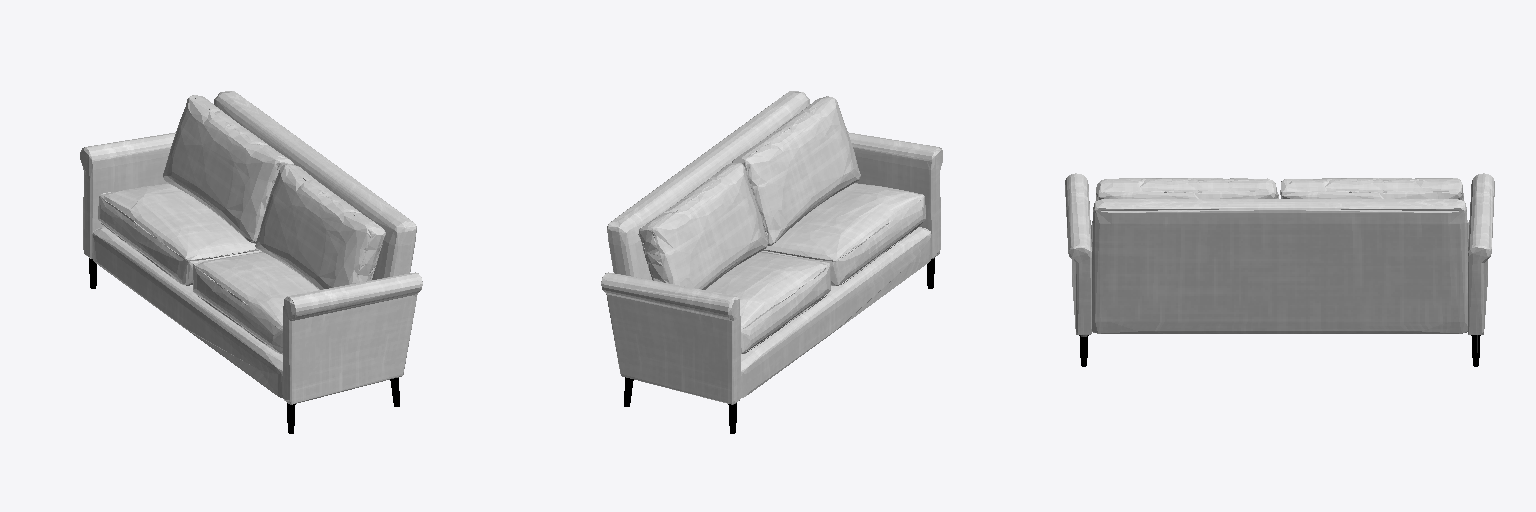
The picture shows the model from 3 angles: view 1: azimuth 30°, elevation 25°; view 2: azimuth 150°, elevation 25°; view 3: azimuth 270°, elevation 25°; orthographic projection.
Visible parts, largest first — view 1: pasted__pasted__unknown_trinity pasted__group1 group; view 2: pasted__pasted__unknown_trinity pasted__group1 group; view 3: pasted__pasted__unknown_trinity pasted__group1 group.
Part boxes in pixels (x1,y1,x2,y2): pasted__pasted__unknown_trinity pasted__group1 group: (80, 91, 422, 433); pasted__pasted__unknown_trinity pasted__group1 group: (601, 91, 942, 433); pasted__pasted__unknown_trinity pasted__group1 group: (1065, 173, 1494, 366).
Bounding box in the file's own units: 1.01 × 1.22 × 2.67.
1 materials, 1 textured.